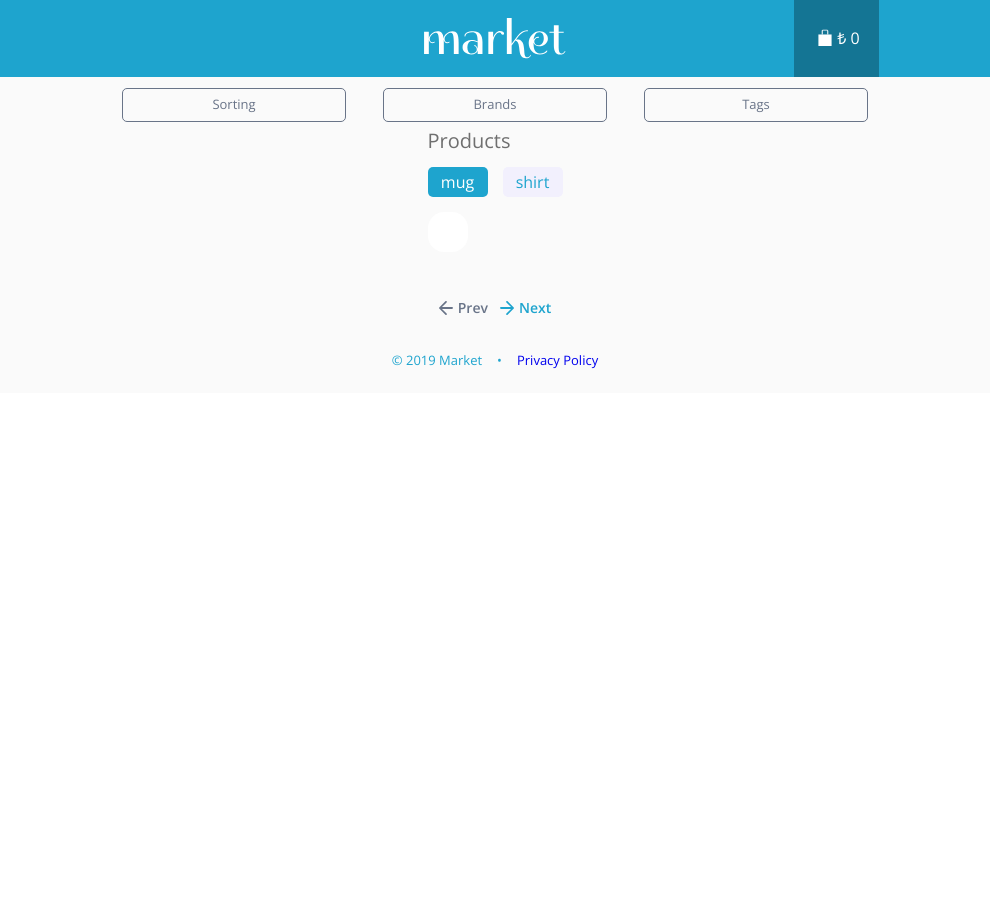
Filters › should render brands content on click on mobile
Click the text with test id "brands__label" at (495, 105), box [383,88,606,122]
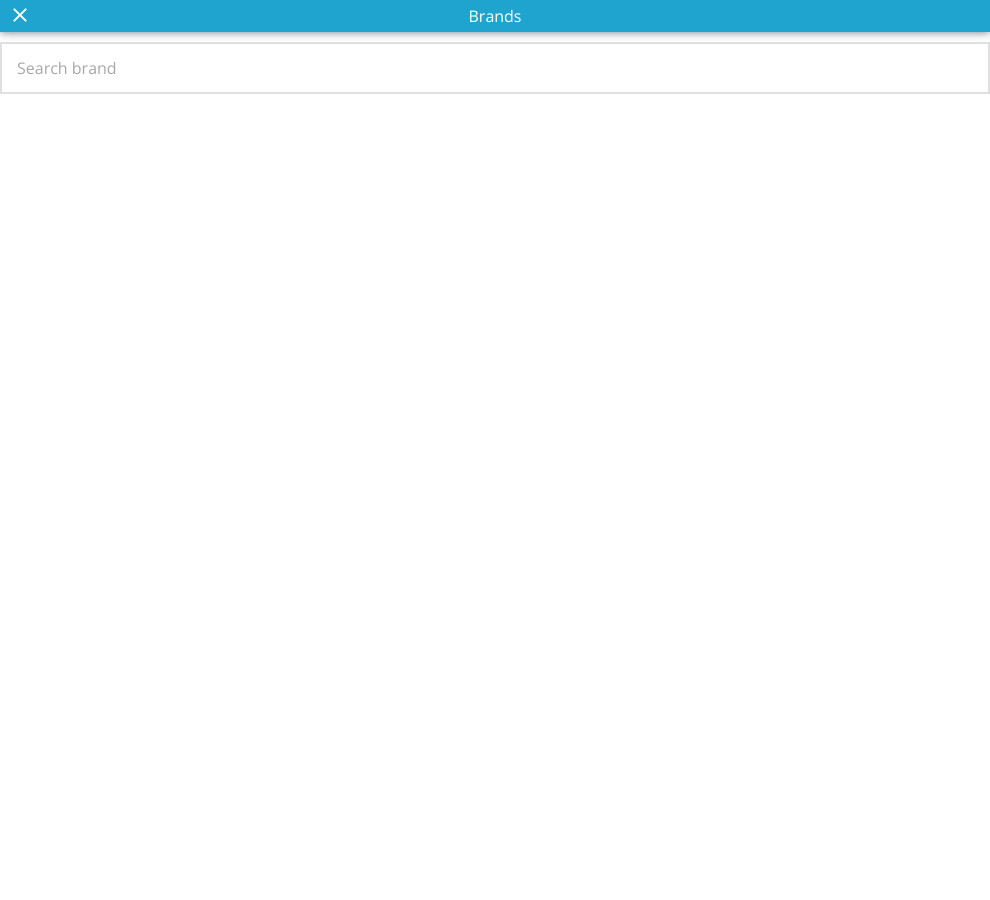
Expected: the element with test id "brands__content" is shown
